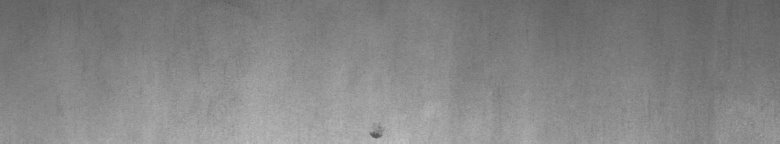fi: (365, 124, 384, 136)
